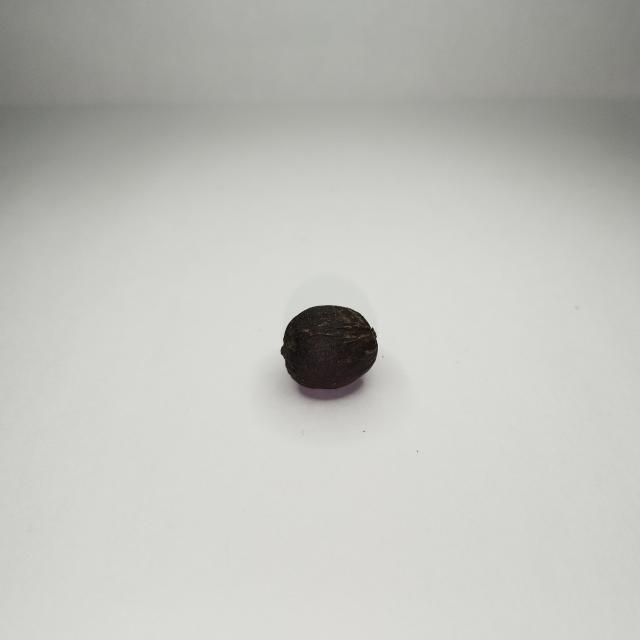Danado: (280, 305, 381, 395)
